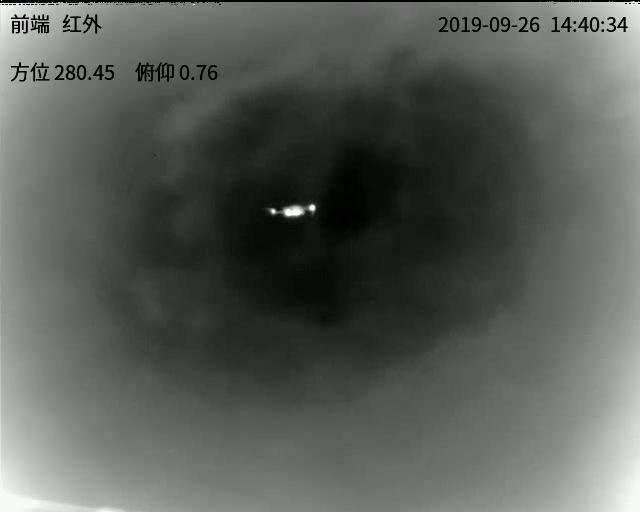DRONE: (266, 203, 318, 218)
